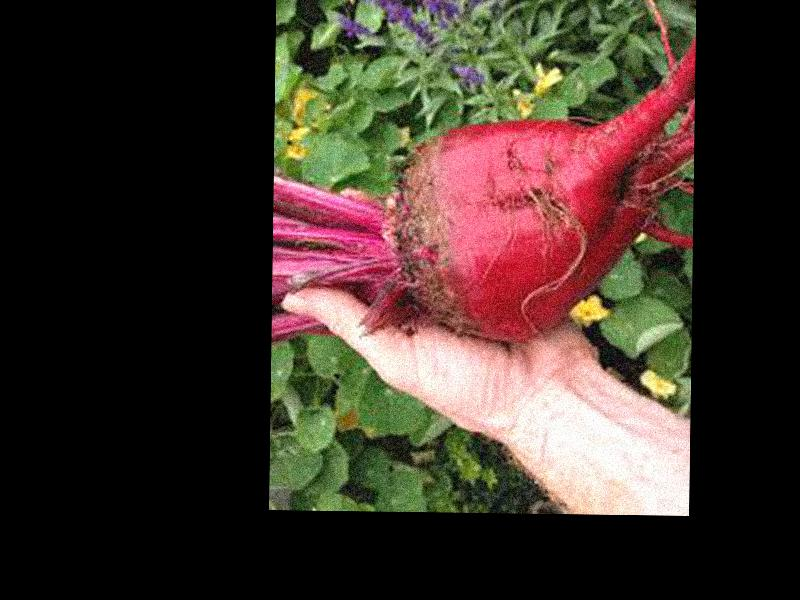Beet: (274, 39, 695, 344)
